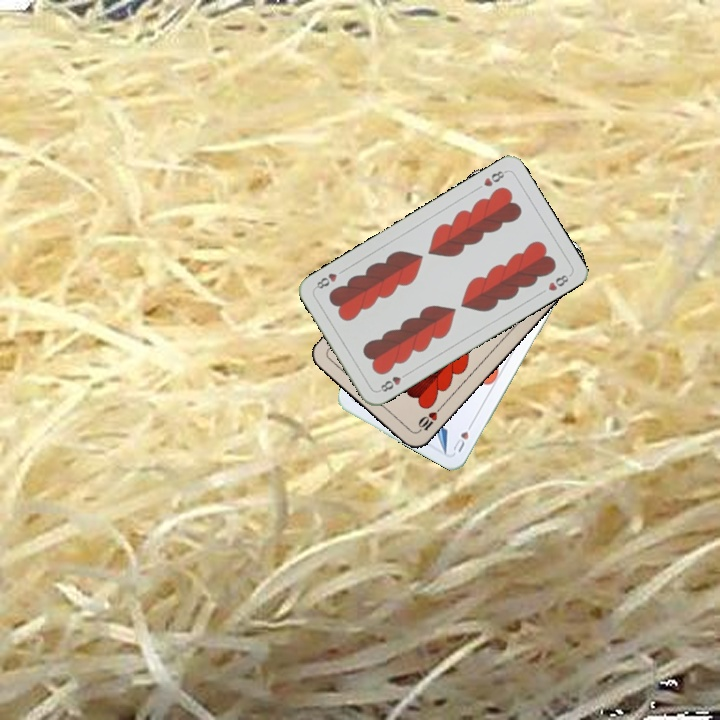H10: (414, 402, 445, 435)
H8: (374, 368, 411, 395), (479, 166, 509, 189)
HU: (449, 418, 476, 455)
